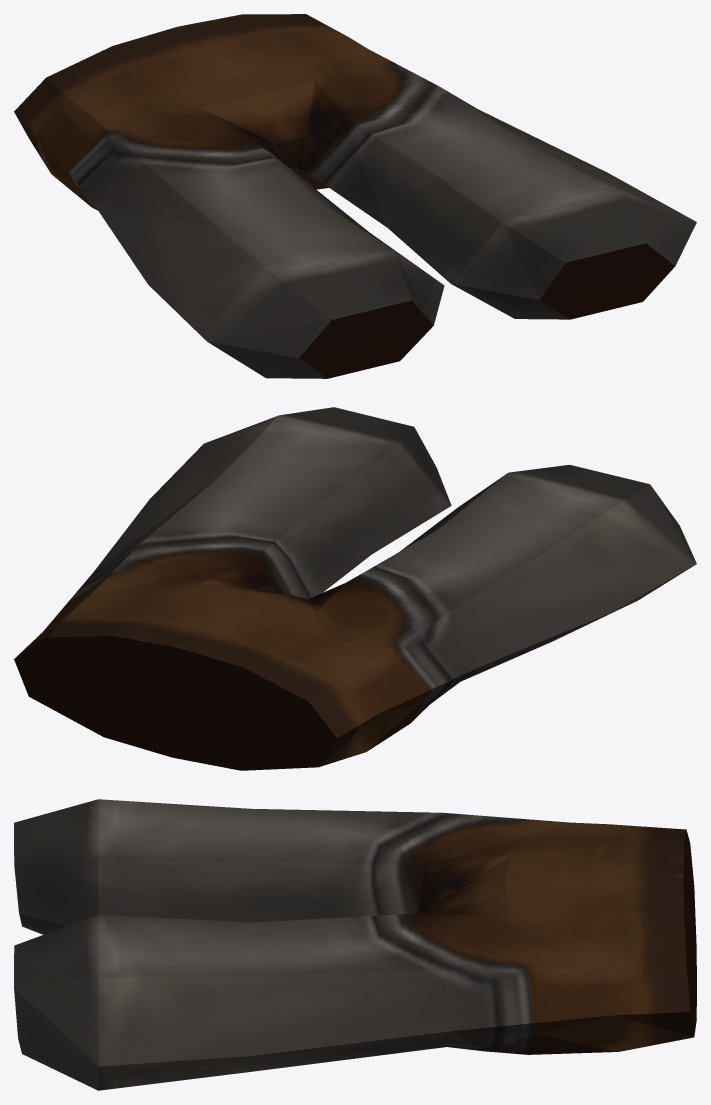
Rendered from Bottom.FBX.
The picture shows the model from 3 angles, top to bottom: view 1: azimuth 30°, elevation 25°; view 2: azimuth 150°, elevation 25°; view 3: azimuth 270°, elevation 25°; orthographic projection. The views are drawn at different scales.
Visible parts, largest first — view 1: Bottom; view 2: Bottom; view 3: Bottom.
Part boxes in pixels (bbox=[...]): Bottom: bbox=[14, 14, 696, 378]; Bottom: bbox=[14, 407, 696, 770]; Bottom: bbox=[14, 799, 696, 1090].
Bounding box in the file's own units: 45.14 × 9.7 × 50.69.
Materials: 1 (1 with a texture image).
